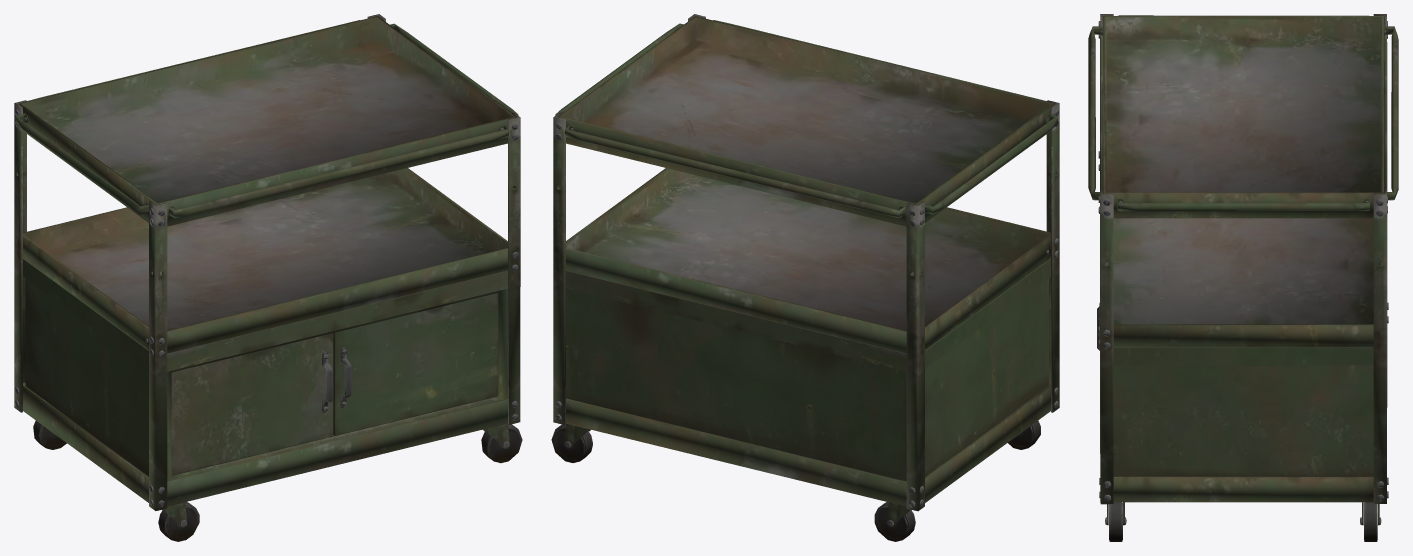
Rendered from industrial_storage_cart.glb.
The picture shows the model from 3 angles, left to right: view 1: azimuth 30°, elevation 25°; view 2: azimuth 150°, elevation 25°; view 3: azimuth 270°, elevation 25°; orthographic projection.
Visible parts, largest first — view 1: industrial_storage_cart; view 2: industrial_storage_cart; view 3: industrial_storage_cart.
Part boxes in pixels (x1=…): industrial_storage_cart: x1=14, y1=14, x2=522, y2=541; industrial_storage_cart: x1=551, y1=14, x2=1059, y2=541; industrial_storage_cart: x1=1088, y1=14, x2=1398, y2=541.
Size of the model in its own units: 1.6 by 1.37 by 1.1.
1 material, 1 textured.
